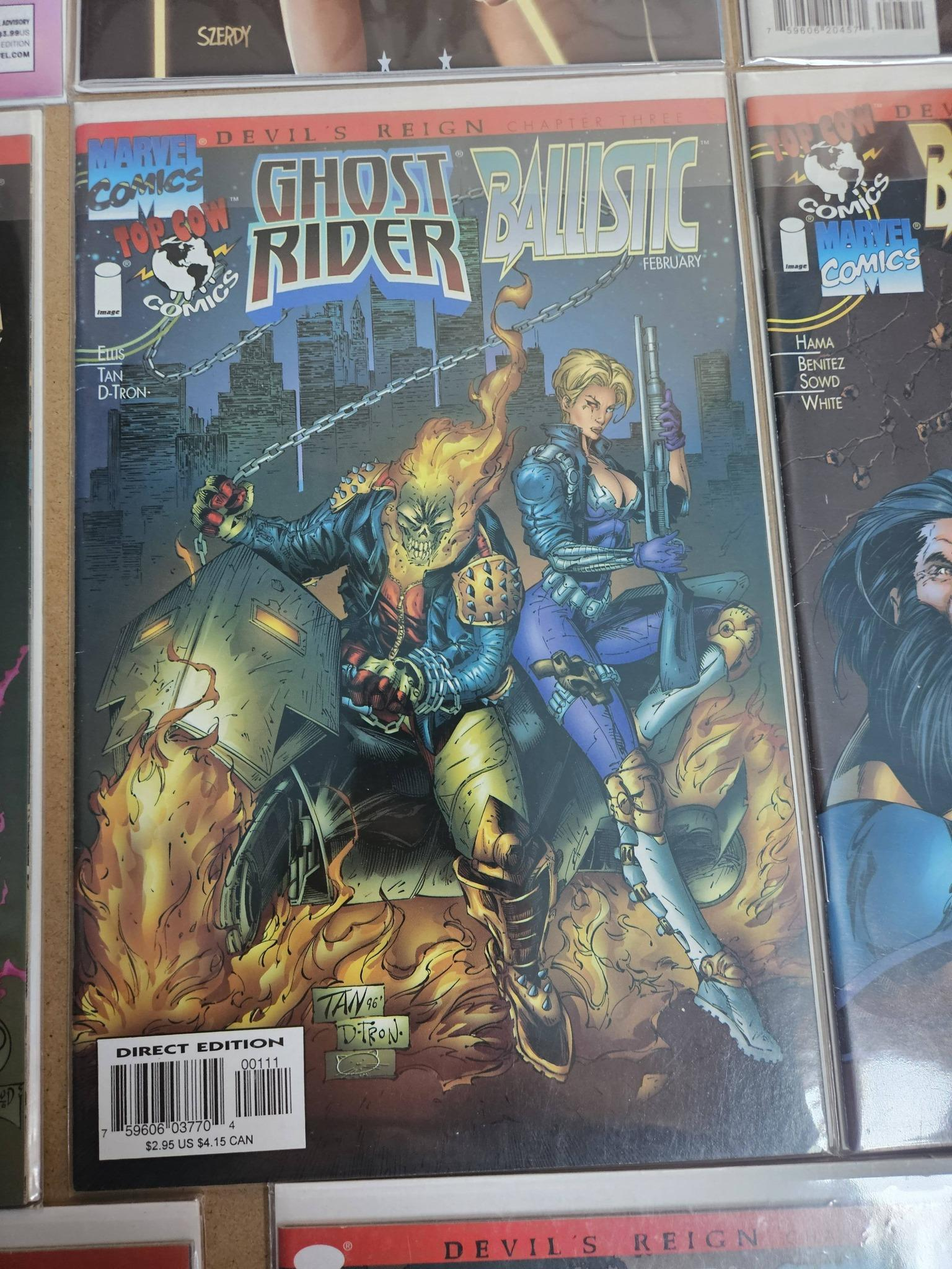comic: (29, 70, 827, 1189)
